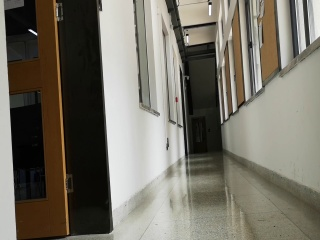room: (2, 3, 117, 237)
